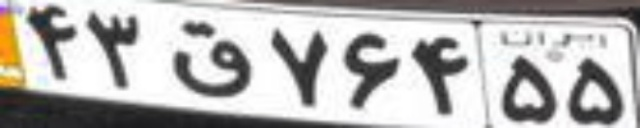3: (83, 14, 139, 86)
4: (410, 35, 471, 115), (24, 6, 75, 78)
5: (496, 55, 555, 123), (565, 58, 622, 124)
6: (342, 32, 401, 109)
7: (269, 28, 330, 105)
ghaf: (171, 20, 254, 98)
